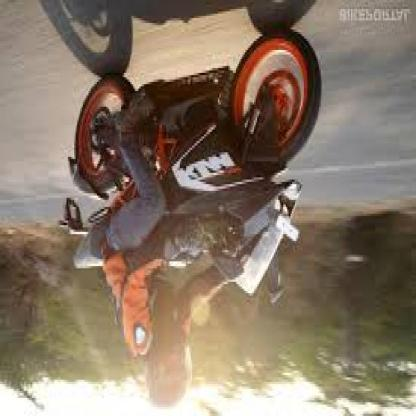bike: (64, 27, 322, 235)
